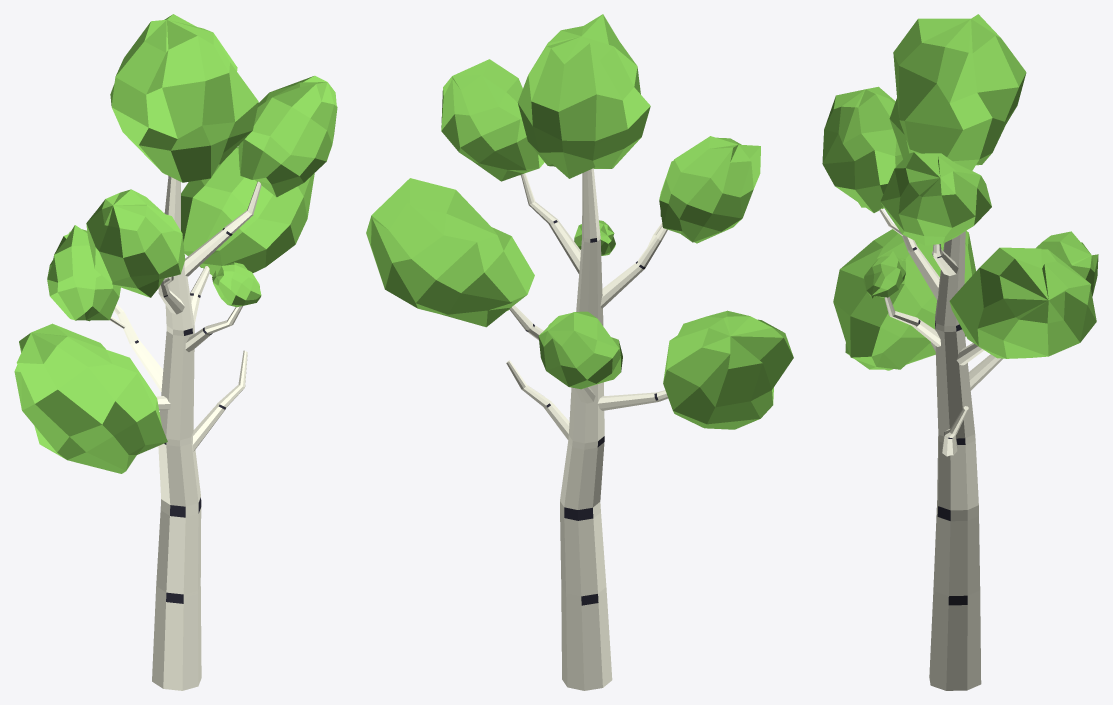
The model's file is Birch1_summer.FBX.
3 renders of one model, left to right at view 1: azimuth 30°, elevation 25°; view 2: azimuth 150°, elevation 25°; view 3: azimuth 270°, elevation 25°, orthographic.
Visible parts, largest first — view 1: Berezka3; view 2: Berezka3; view 3: Berezka3.
Part boxes in pixels (x1,y1,x2,y2): Berezka3: (14, 14, 337, 690); Berezka3: (366, 14, 793, 690); Berezka3: (822, 14, 1098, 690).
Bounding box in the file's own units: 3.65 × 6.43 × 2.42.
